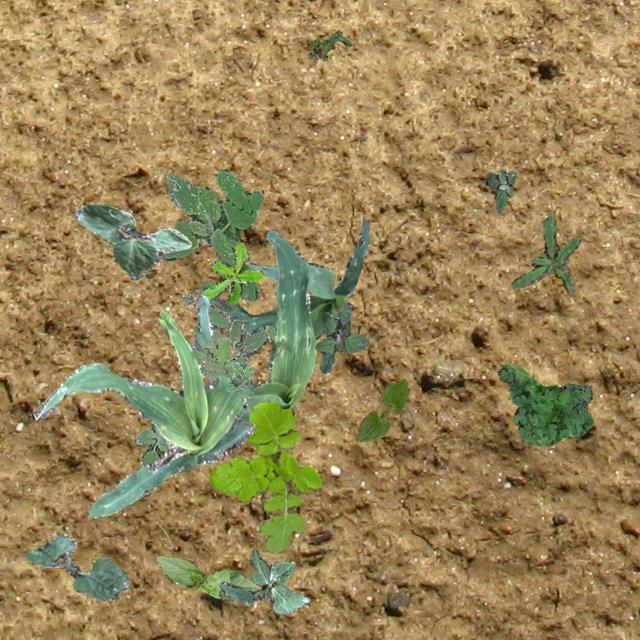crop: (32, 292, 254, 518), (210, 215, 368, 368), (240, 229, 316, 422), (74, 202, 190, 280), (23, 532, 128, 600), (218, 548, 308, 612), (156, 554, 258, 600), (354, 378, 406, 440)
weed: (208, 399, 320, 554), (158, 168, 262, 300), (180, 280, 274, 386), (497, 362, 592, 446), (510, 212, 580, 292), (190, 328, 252, 397), (200, 242, 264, 302), (314, 302, 368, 372), (134, 423, 168, 468), (306, 29, 350, 60), (486, 168, 516, 212)
